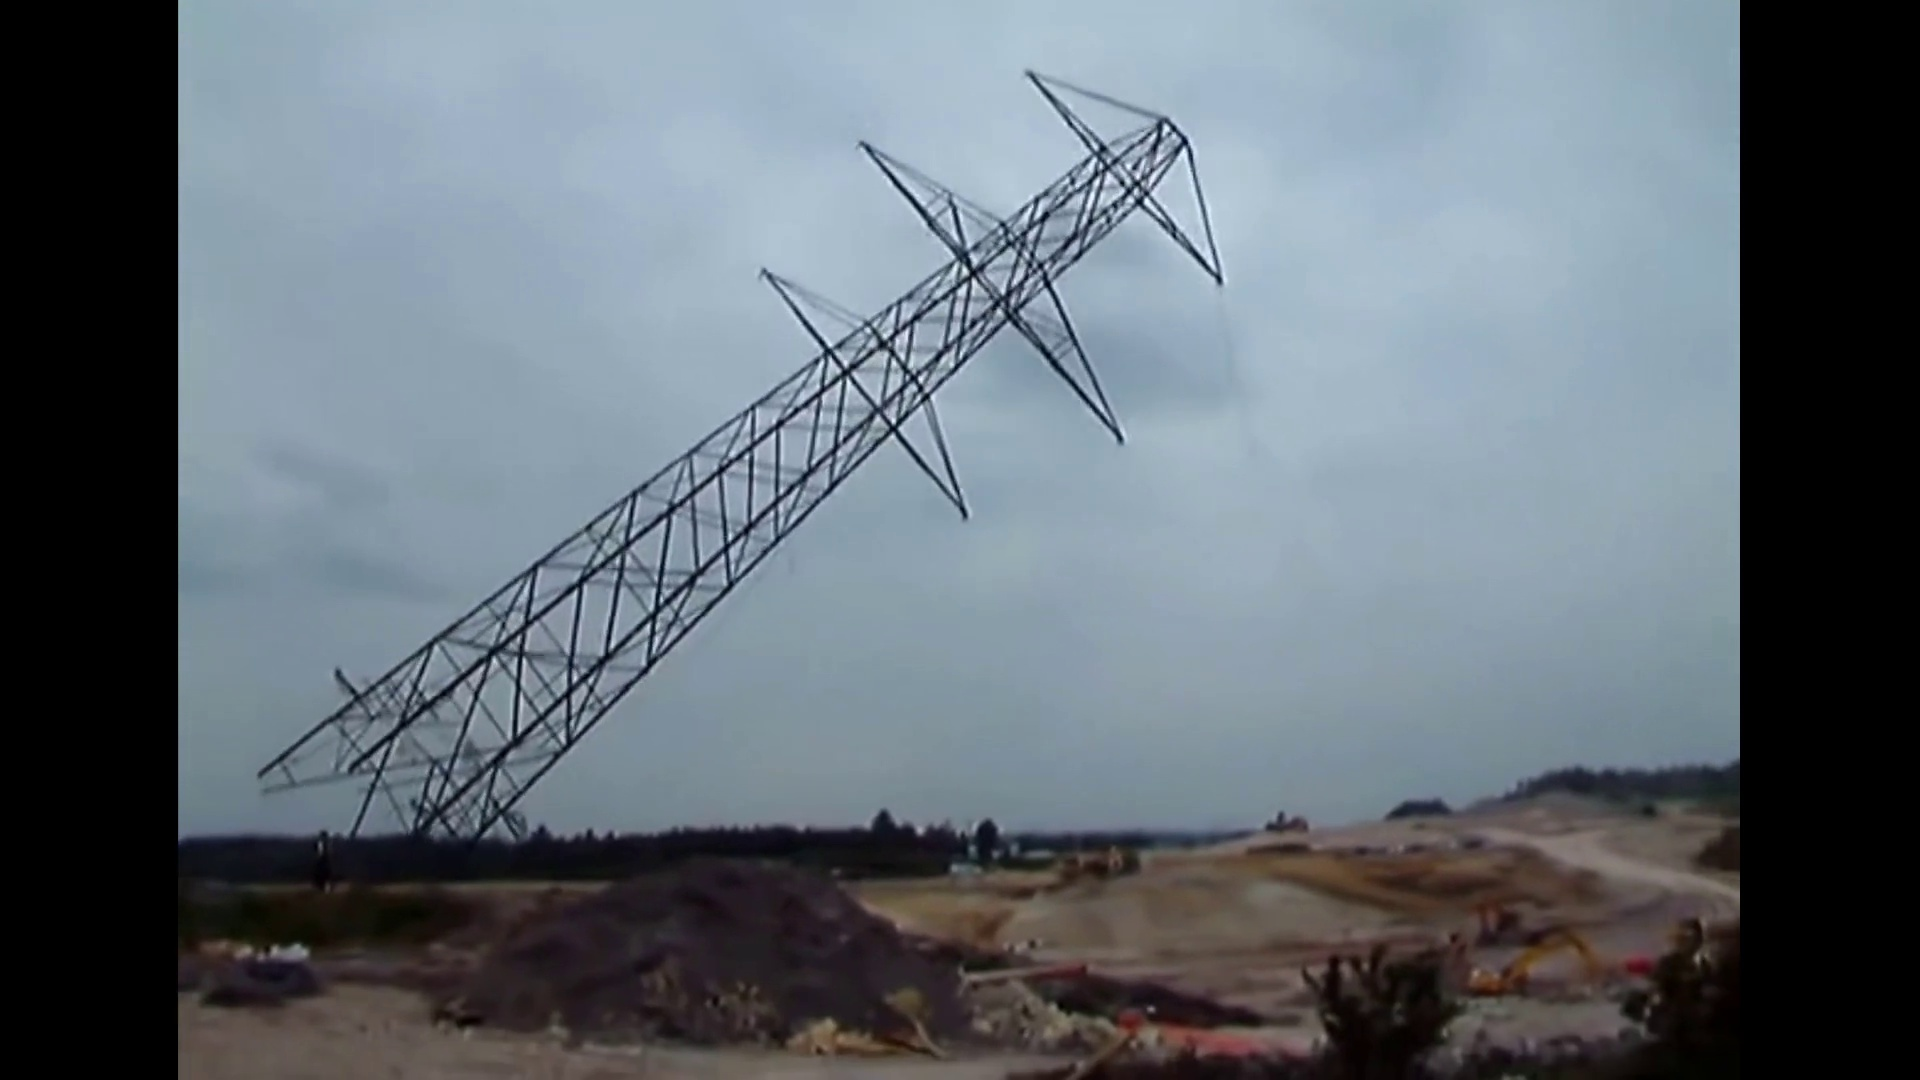tower_down: (248, 40, 1259, 833)
